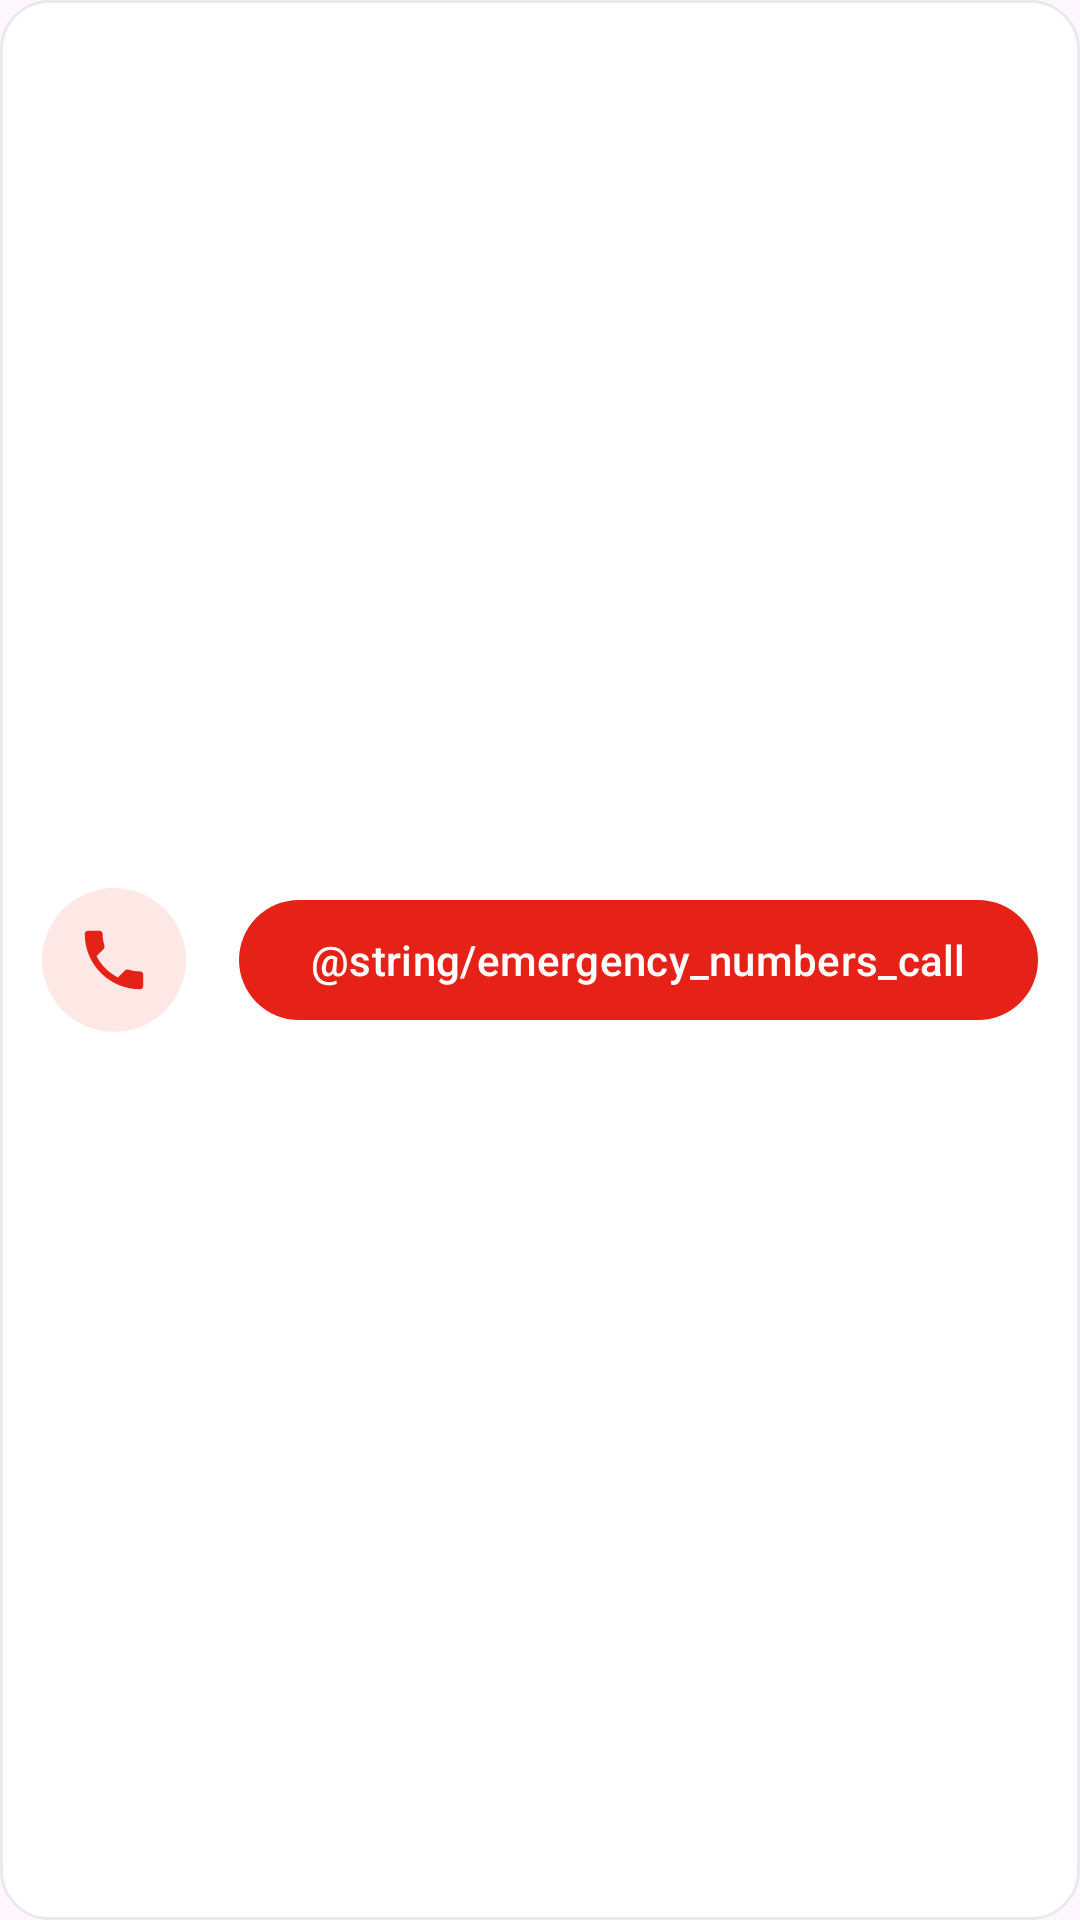

Screen size 1080×1920. Icon name, then its box in pixels as (x1, y1, x2, y2):
phone: (84, 930, 144, 990)
